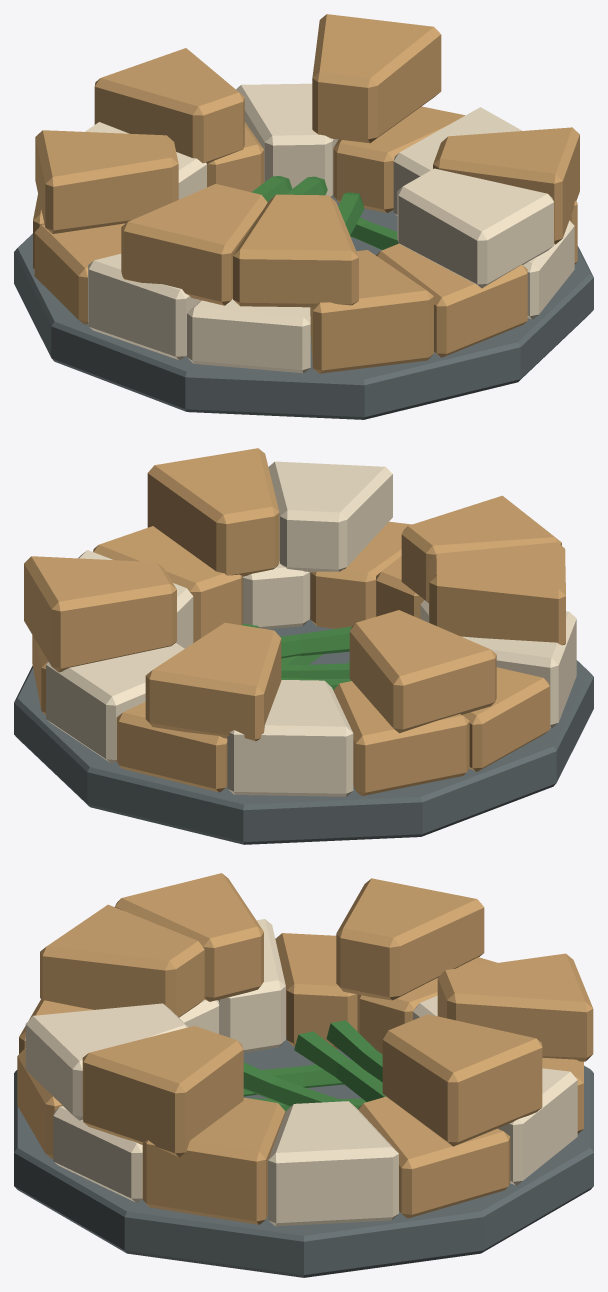
The model's file is bonfire_a_1232.gltf.
3 views of the same model, one above another, from view 1: azimuth 30°, elevation 25°; view 2: azimuth 150°, elevation 25°; view 3: azimuth 270°, elevation 25° (orthographic). The views are drawn at different scales.
Parts seen in each view (by area): view 1: bonfire_a002; view 2: bonfire_a002; view 3: bonfire_a002.
Boxes of the visible parts, x1,y1,x2,y2 form: bonfire_a002: [14, 14, 593, 419]; bonfire_a002: [14, 448, 593, 844]; bonfire_a002: [14, 873, 593, 1277].
Bounding box in the file's own units: 1.28 × 0.4192 × 1.22.
Materials: 1 (1 with a texture image).
